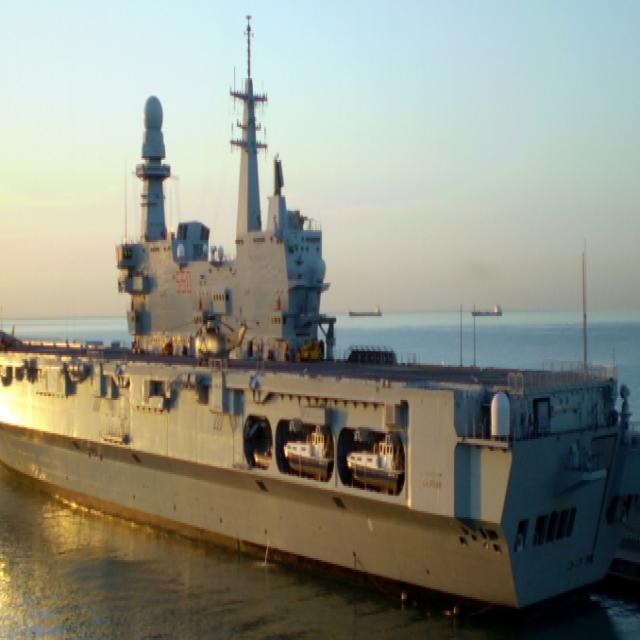Portanaves: (1, 7, 637, 623)
